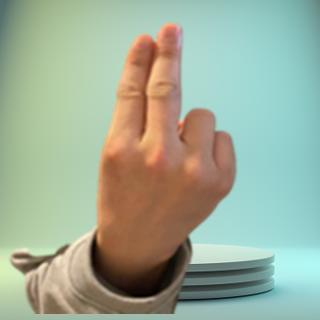DHAVE: (90, 18, 243, 264)
